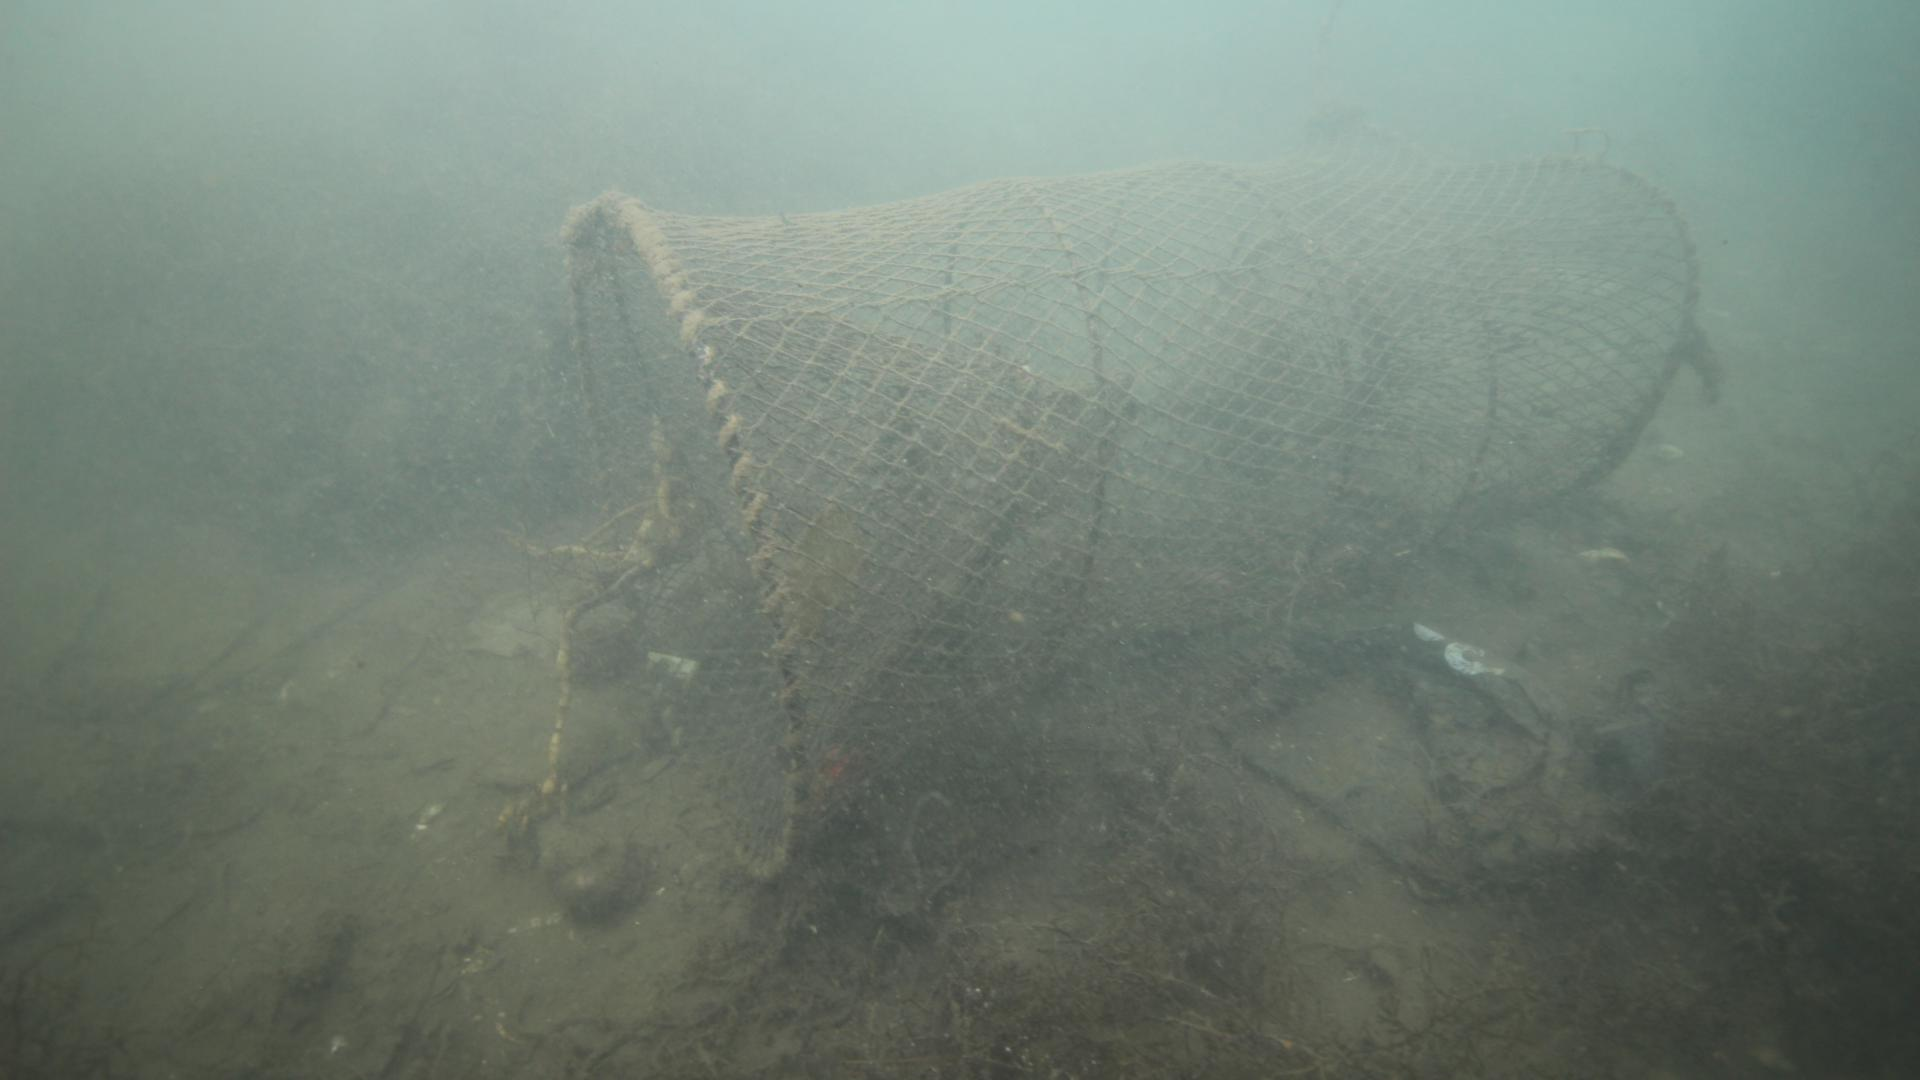spring fish trap: (555, 146, 1701, 884)
